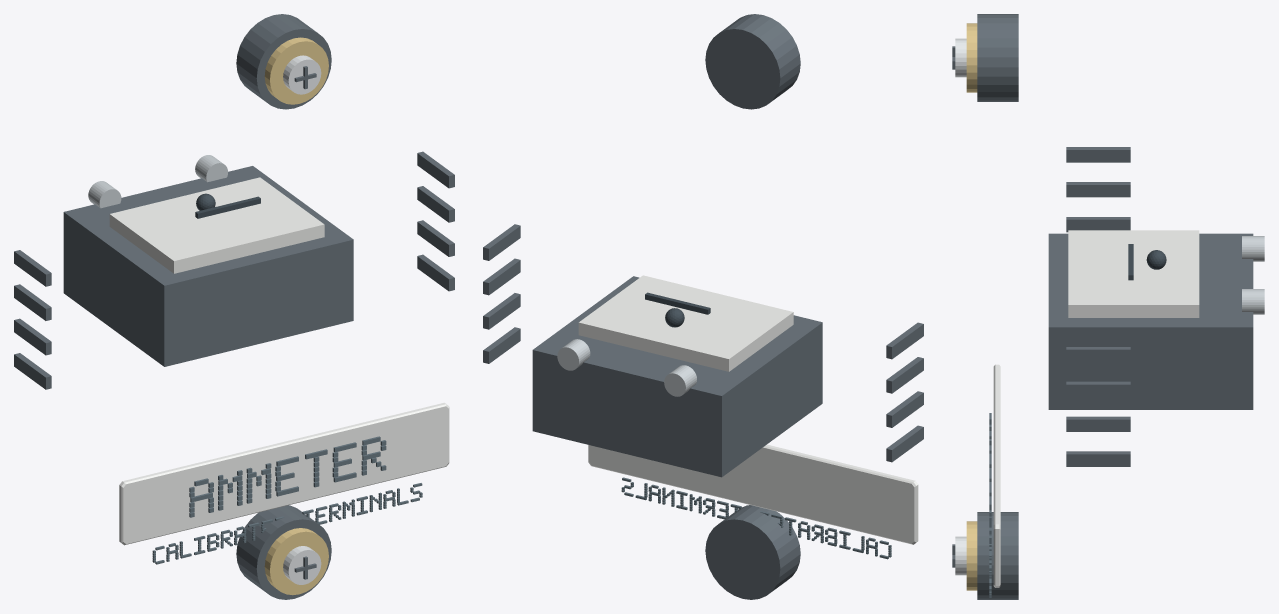
Rendered from ammeter.glb.
3 views of the same model, side by side, from view 1: azimuth 30°, elevation 25°; view 2: azimuth 150°, elevation 25°; view 3: azimuth 270°, elevation 25° (orthographic).
Parts seen in each view (by area): view 1: ammeter-detailed; view 2: ammeter-detailed; view 3: ammeter-detailed.
Part boxes in pixels (left/top/right/bottom): ammeter-detailed: left=14, top=14, right=454, bottom=599; ammeter-detailed: left=483, top=14, right=923, bottom=599; ammeter-detailed: left=952, top=14, right=1264, bottom=599.
Bounding box in the file's own units: 1.71 × 2.27 × 1.11.
